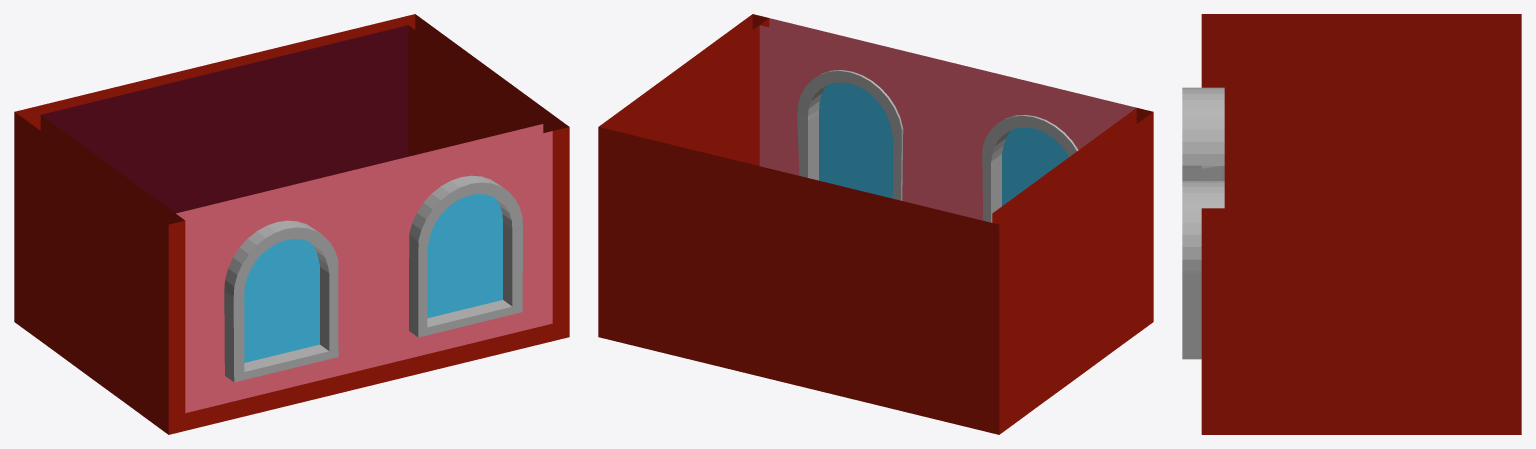
The model's file is arch_base.glb.
3 views of the same model, side by side, from view 1: azimuth 30°, elevation 25°; view 2: azimuth 150°, elevation 25°; view 3: azimuth 270°, elevation 25° (orthographic). The views are drawn at different scales.
Parts seen in each view (by area): view 1: mesh, windows, opening-left, opening-right; view 2: mesh, windows, opening-left, opening-right; view 3: mesh, opening-right, opening-left.
Boxes of the visible parts, box(x1,y1,x2,y2) form: mesh: box(14, 14, 569, 434); windows: box(244, 194, 502, 362); opening-left: box(52, 212, 130, 388); opening-right: box(437, 118, 486, 149); mesh: box(598, 14, 1153, 434); windows: box(819, 82, 1068, 205); opening-left: box(1037, 212, 1115, 388); opening-right: box(674, 118, 730, 158); mesh: box(1182, 14, 1521, 434); opening-right: box(1280, 271, 1442, 416); opening-left: box(1280, 76, 1442, 208).
Size of the model in its own units: 12.02 by 6.02 by 8.48.
